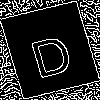D: (24, 25, 76, 79)
